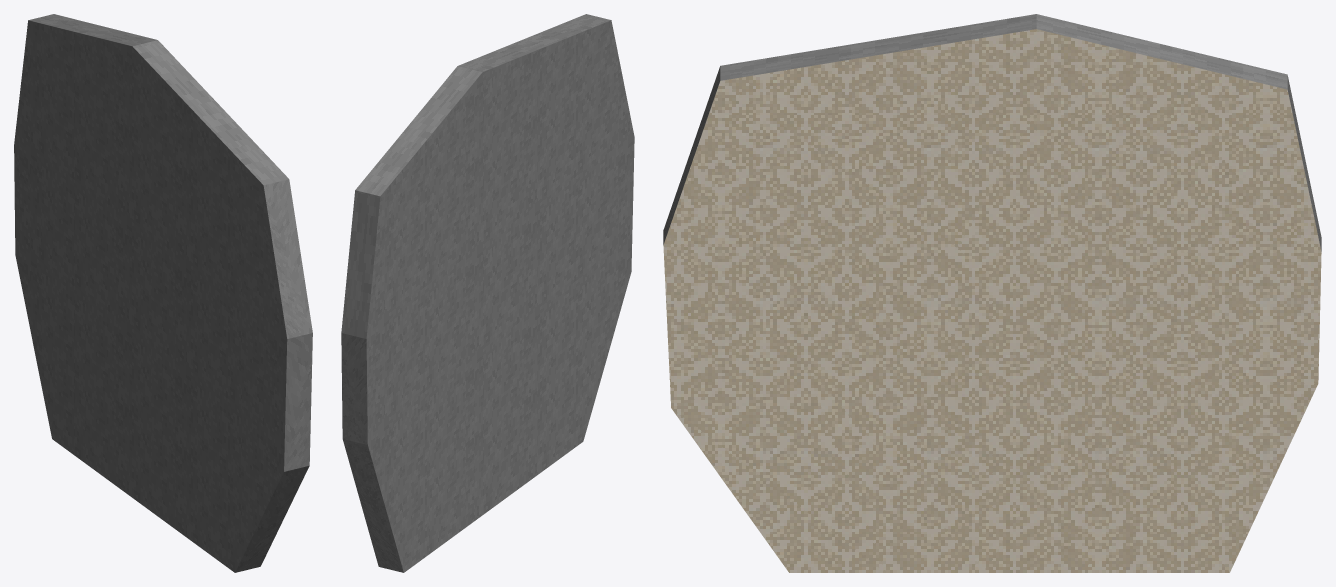
File: theater-wallparts.glb
3 views of the same model, side by side, from view 1: azimuth 30°, elevation 25°; view 2: azimuth 150°, elevation 25°; view 3: azimuth 270°, elevation 25° (orthographic). The views are drawn at different scales.
Visible parts, largest first — view 1: wall-broken.005, wall-broken.003, wall-broken.001, wall-broken.004, wall-broken.002; view 2: wall-broken.001, wall-broken.005, wall-broken.003, wall-broken.004, wall-broken.002; view 3: wall-broken.005, wall-broken.003, wall-broken.001, wall-broken.004, wall-broken.002.
Boxes of the visible parts, x1,y1,x2,y2 form: wall-broken.005: (104,252,312,513); wall-broken.003: (73,120,312,338); wall-broken.001: (14,14,288,187); wall-broken.004: (14,145,111,481); wall-broken.002: (154,393,309,572); wall-broken.001: (341,14,610,338); wall-broken.005: (455,137,634,529); wall-broken.003: (424,20,634,380); wall-broken.004: (341,297,461,572); wall-broken.002: (504,272,631,498); wall-broken.005: (663,245,1103,572); wall-broken.003: (663,66,1178,383); wall-broken.001: (720,14,1321,252); wall-broken.004: (1087,252,1321,572); wall-broken.002: (671,361,982,572).
Bounding box in the file's own units: 0.1056 × 1.77 × 1.94.
Materials: 2 (2 with a texture image).
